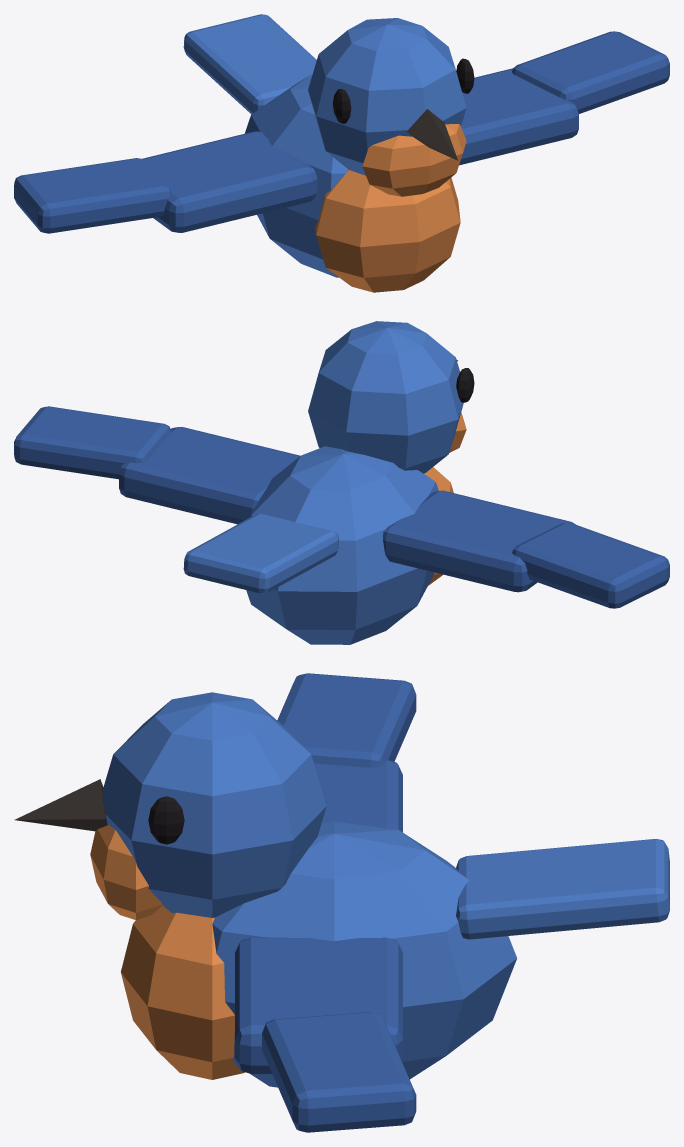
The model's file is bluebird_flying.glb.
The picture shows the model from 3 angles, top to bottom: view 1: azimuth 30°, elevation 25°; view 2: azimuth 150°, elevation 25°; view 3: azimuth 270°, elevation 25°; orthographic projection. The views are drawn at different scales.
Visible parts, largest first — view 1: body_mesh, head_mesh, wing_r_mesh, wing_l_mesh; view 2: body_mesh, wing_r_mesh, head_mesh, wing_l_mesh; view 3: body_mesh, head_mesh, wing_l_mesh, wing_r_mesh.
Boxes of the visible parts, box(x1,y1,x2,y2) form: body_mesh: box(183, 14, 460, 292); head_mesh: box(308, 18, 474, 196); wing_r_mesh: box(14, 131, 317, 233); wing_l_mesh: box(459, 31, 669, 165); body_mesh: box(183, 446, 453, 644); wing_r_mesh: box(383, 490, 669, 608); head_mesh: box(308, 321, 474, 473); wing_l_mesh: box(14, 406, 300, 524); body_mesh: box(121, 821, 669, 1087); head_mesh: box(14, 692, 326, 919); wing_l_mesh: box(235, 937, 416, 1132); wing_r_mesh: box(277, 673, 416, 832).
Size of the model in its own units: 0.665 by 0.275 by 0.4301.
